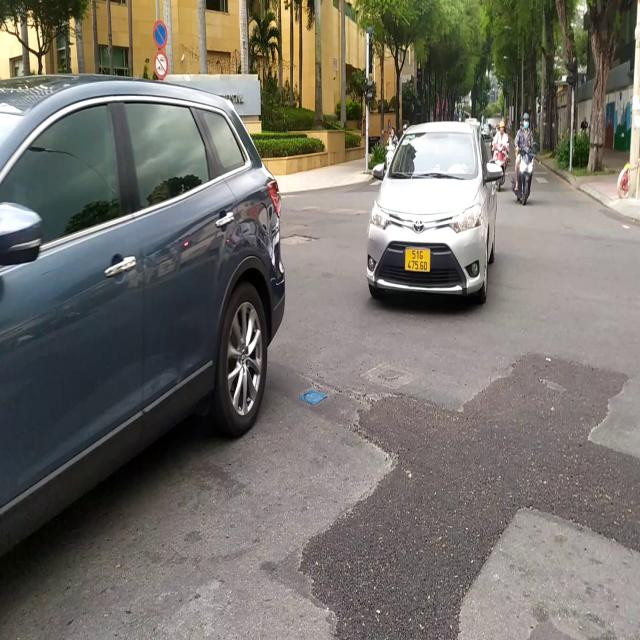bien_vang: (404, 243, 434, 278)
